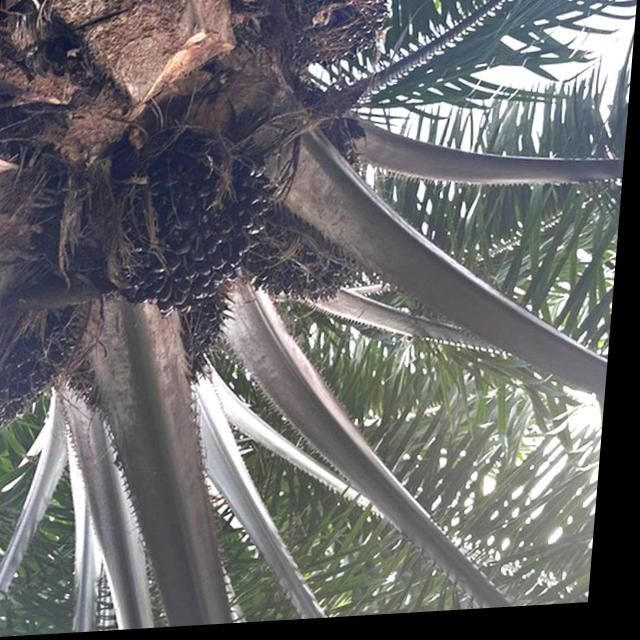unripe: (106, 126, 288, 328)
